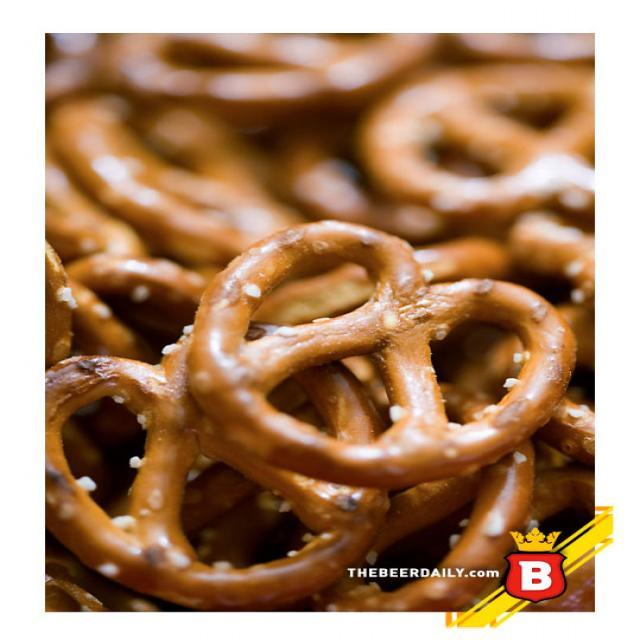Salatini: (181, 214, 574, 478)
